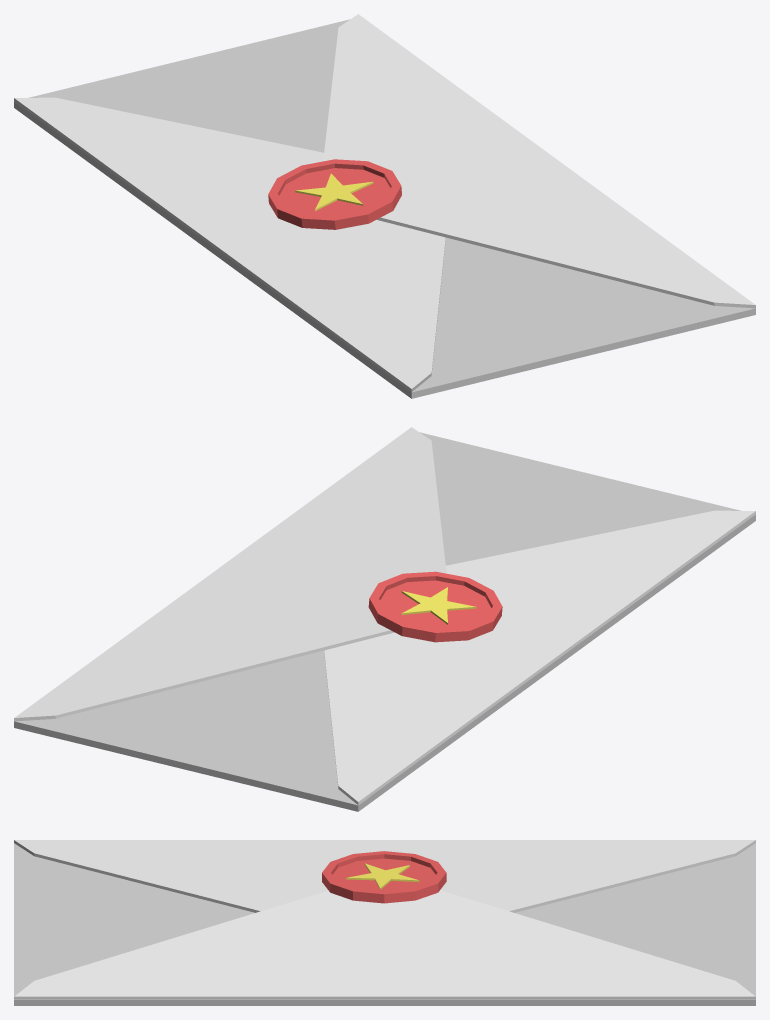
Rendered from envelope_morph.glb.
3 views of the same model, one above another, from view 1: azimuth 30°, elevation 25°; view 2: azimuth 150°, elevation 25°; view 3: azimuth 270°, elevation 25° (orthographic). The views are drawn at different scales.
Parts seen in each view (by area): view 1: Envelope; view 2: Envelope; view 3: Envelope.
Part boxes in pixels (x1,y1,x2,y2): Envelope: (14,14,755,398); Envelope: (14,427,755,811); Envelope: (14,840,755,1005).
Size of the model in its own units: 0.11 by 0.0119 by 0.22.
1 material, 1 textured.
